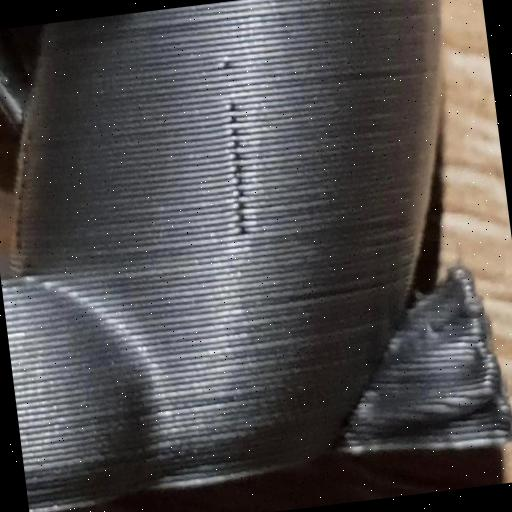cracks: (216, 96, 262, 244), (218, 52, 236, 74)
